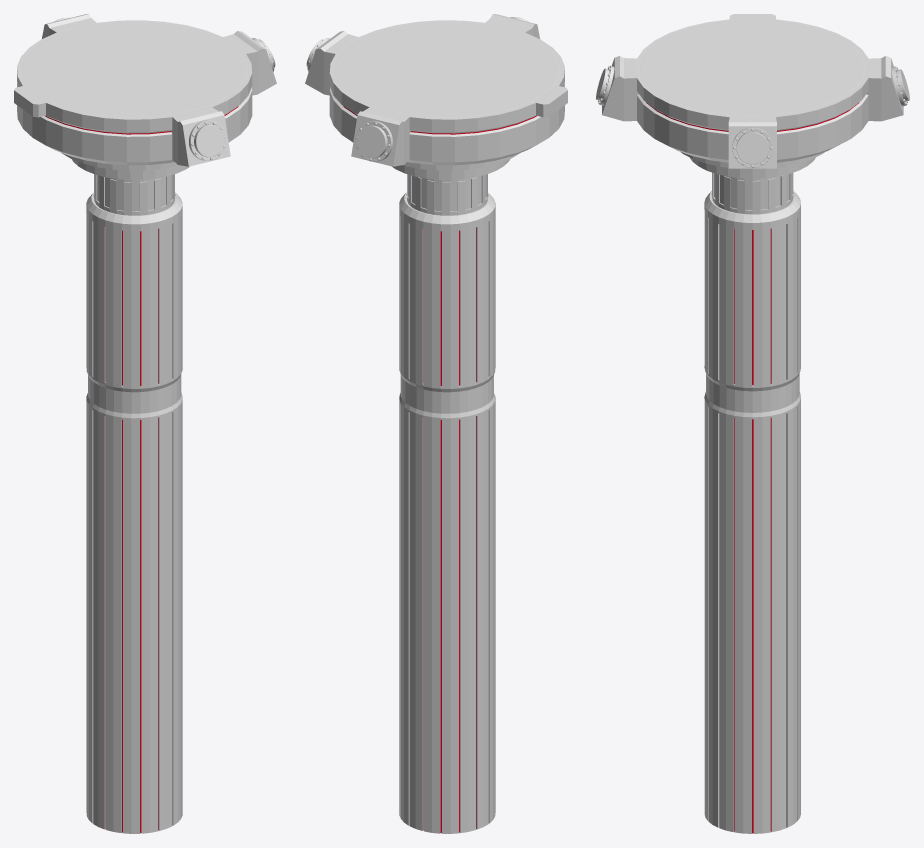
The model's file is m6ArenaL2.fbx.
The picture shows the model from 3 angles, left to right: view 1: azimuth 30°, elevation 25°; view 2: azimuth 150°, elevation 25°; view 3: azimuth 270°, elevation 25°; orthographic projection.
Visible parts, largest first — view 1: Cylinder.032; view 2: Cylinder.032; view 3: Cylinder.032.
Boxes of the visible parts, left/top/right/bottom form: Cylinder.032: left=14, top=14, right=276, bottom=833; Cylinder.032: left=305, top=14, right=567, bottom=833; Cylinder.032: left=596, top=14, right=909, bottom=833.
Size of the model in its own units: 163 by 471 by 179.
